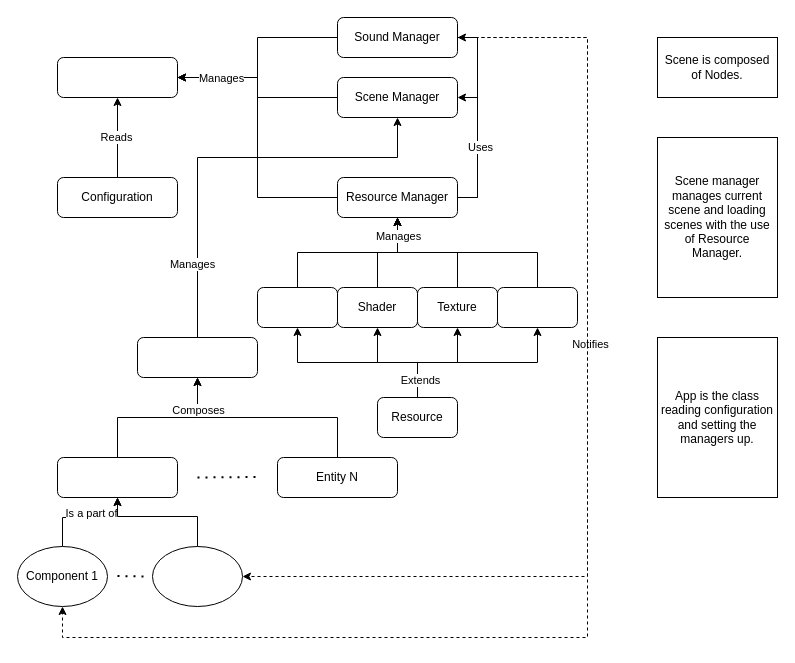
This 795x663 diagram has some shape labels left out. The shapes that lost their labels are listed below. From the top down, each one's centre as x and y in pixels, then its label:
the point at 117,77: App
the point at 297,307: SFX
the point at 537,307: Font
the point at 197,357: Scene
the point at 117,477: Entity 1
the point at 197,576: Component N
